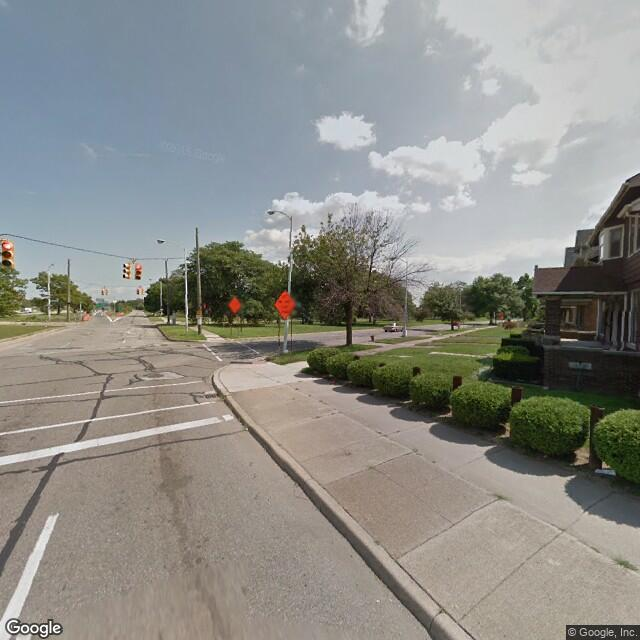litter: (594, 465, 616, 481), (244, 426, 249, 427)
